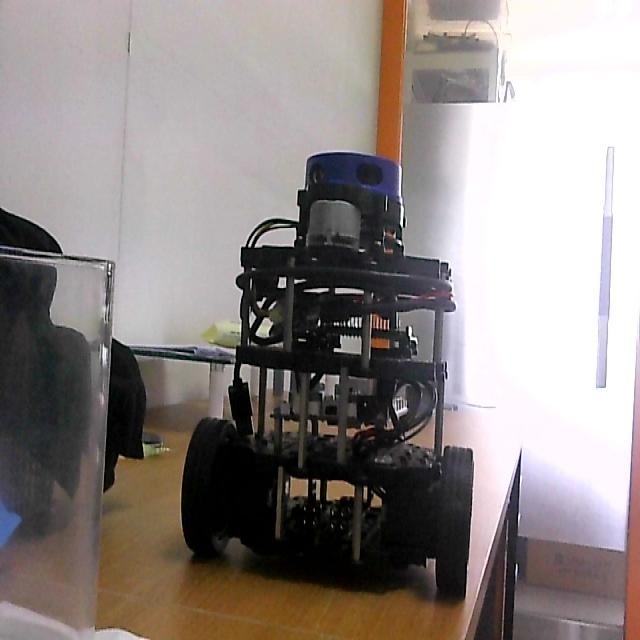turtle: (179, 150, 476, 603)
